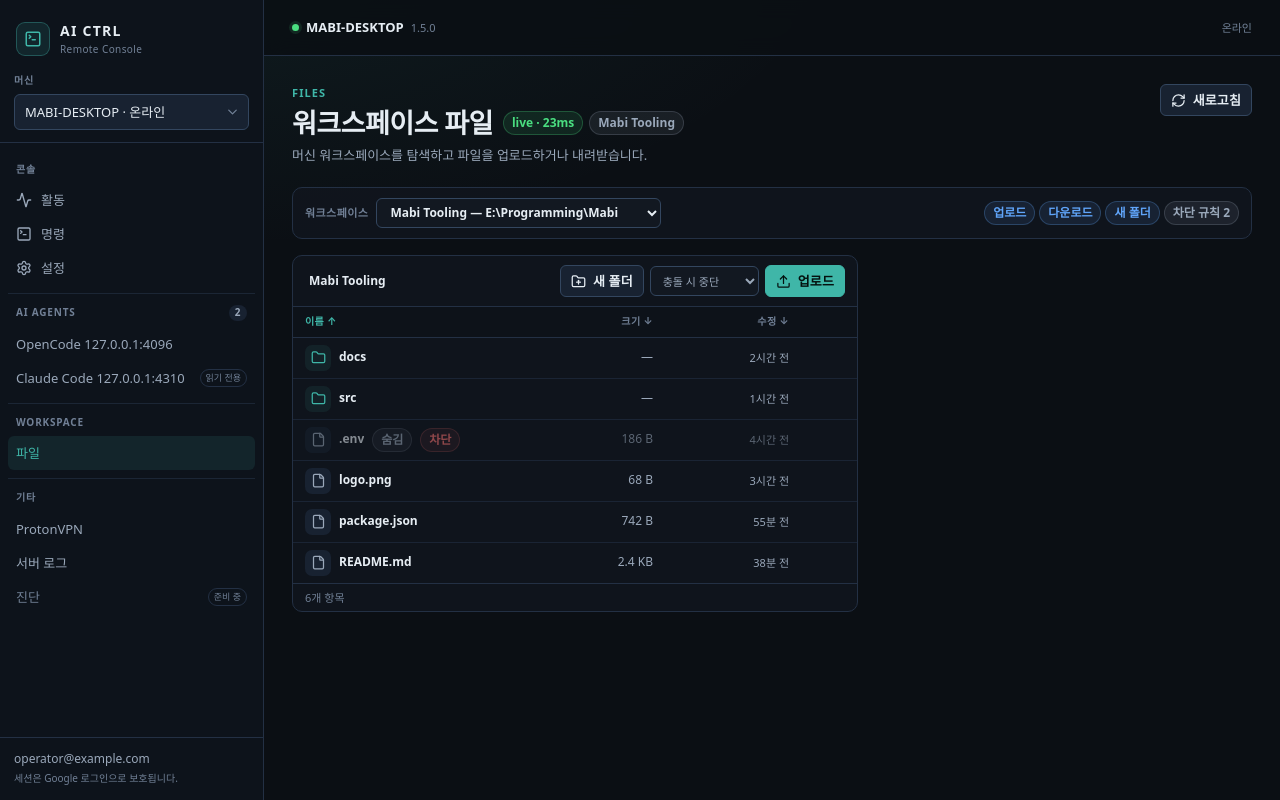
Test: application integration › browses workspace files and previews text
Expected: the heading "워크스페이스 파일" is shown, [292,106,493,140]
Expected: the text "Mabi Tooling" is shown, [589,111,684,135]
Click the button "README.md". click: (431, 563)
box: [305,547,557,579]
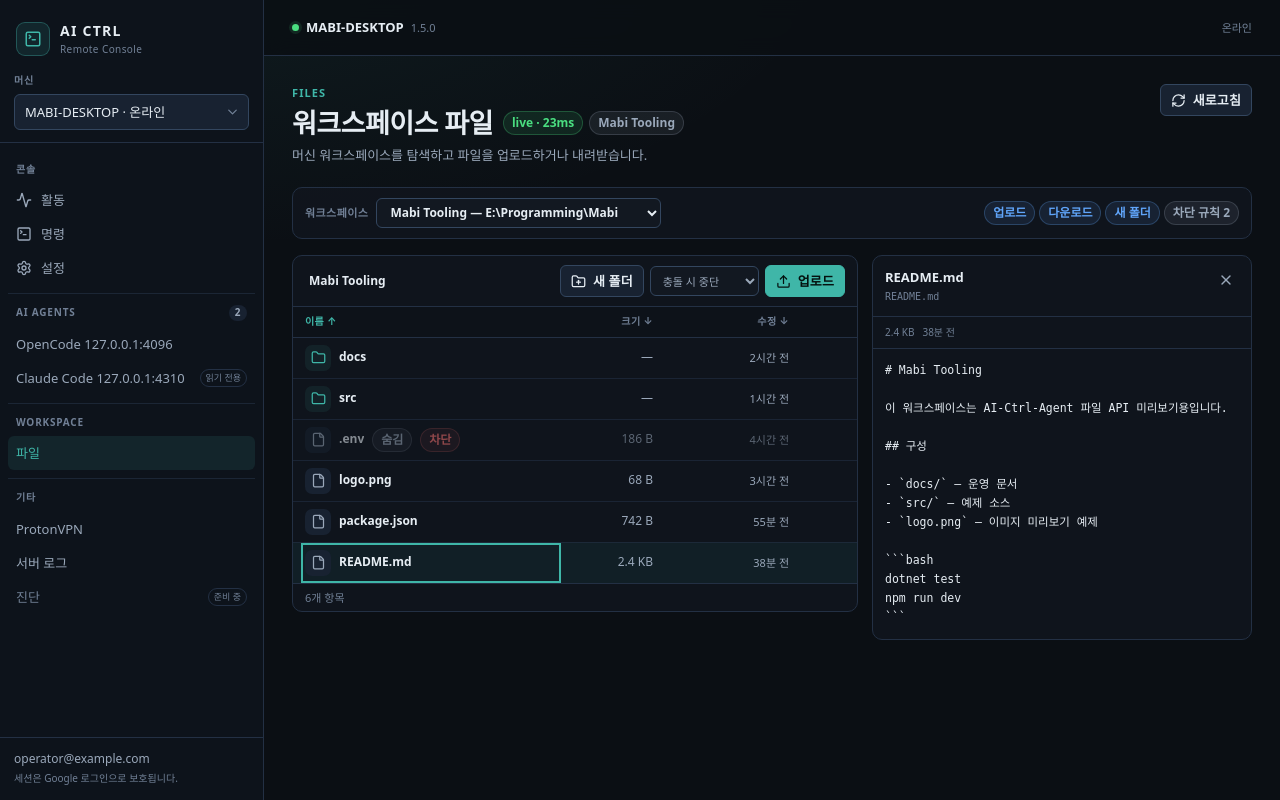
Now the text "# Mabi Tooling" is shown, box [885,363,1228,624]
Now the 1st text "README.md" is shown, box [885,268,964,286]
